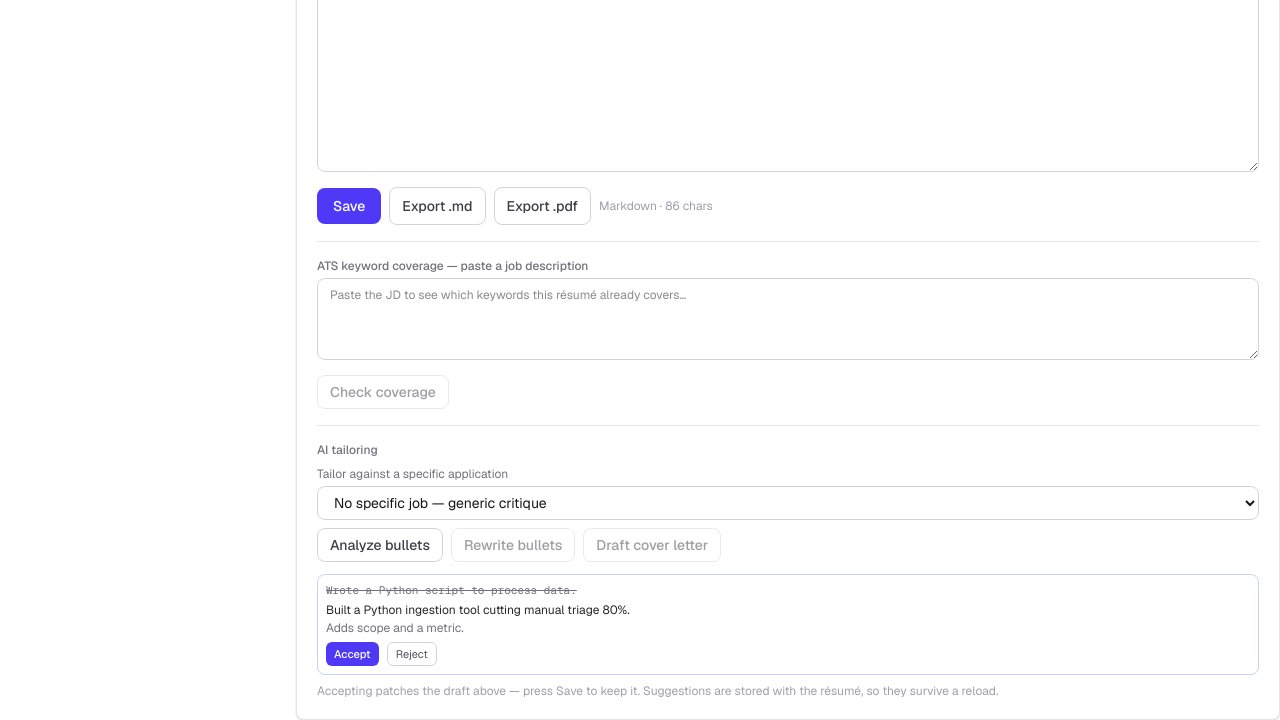
Scenario: ResumesPage — AI suggestions (MOM-153/154) › rejecting a rewrite persists the dismissal without touching the draft text
The width and height of the screenshot is (1280, 720).
(page scrolled)
Expected: the text "Built a Python ingestion tool cutting manual triage 80%." is shown, top-left (326, 602), bottom-right (630, 618)
Click the button "Reject": x=412, y=654 top-left (387, 642), bottom-right (437, 666)
(page scrolled)
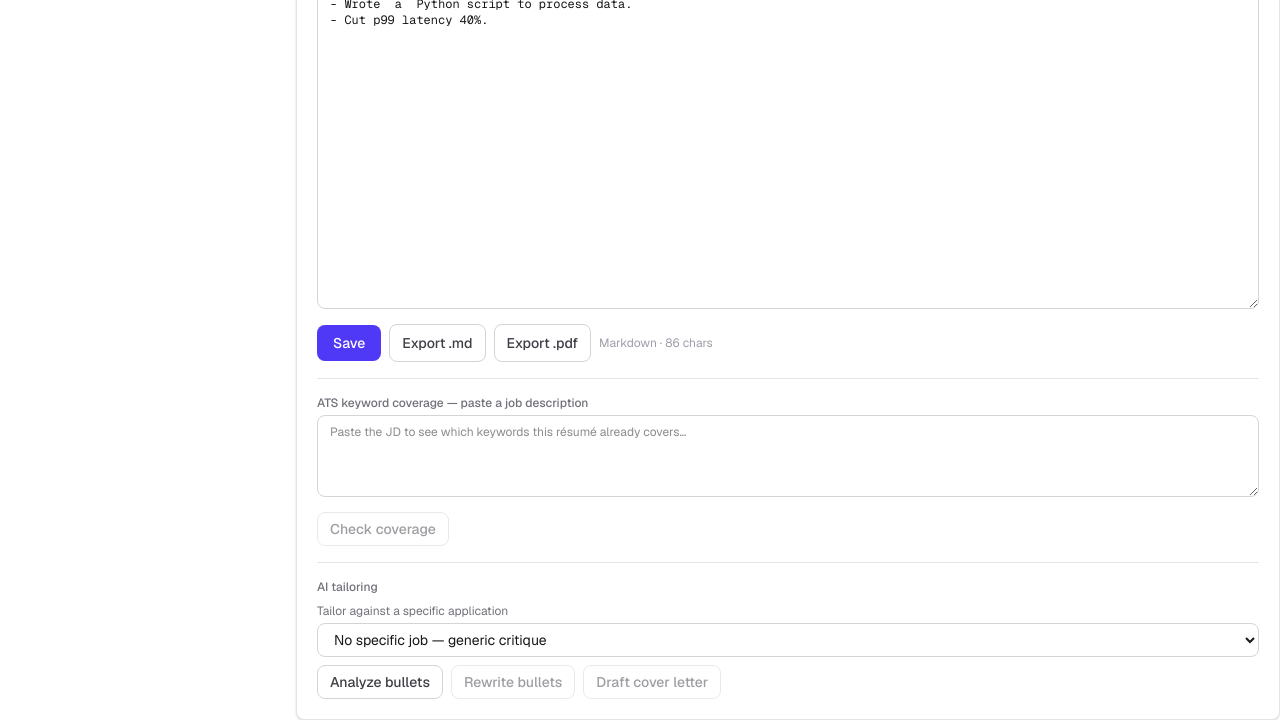
Expected: the text "Built a Python ingestion tool cutting manual triage 80%." is gone
